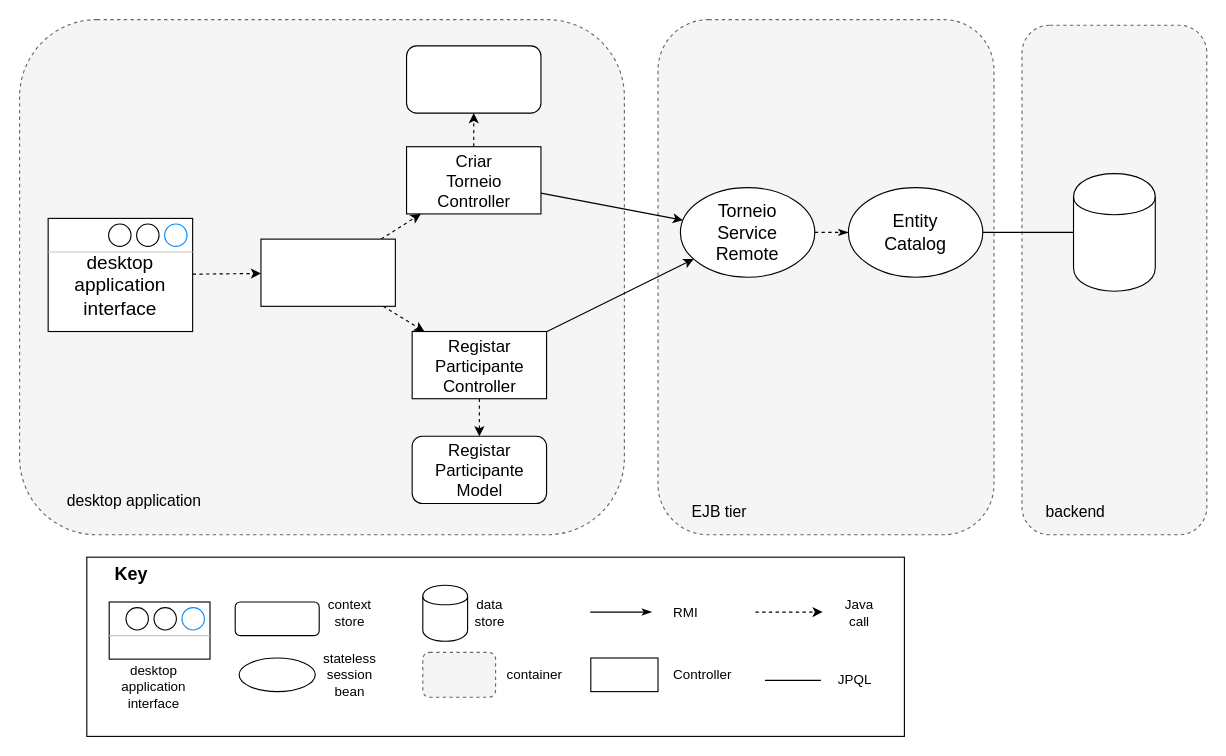
Some shapes in this 1226 by 756 pixel diagram are drawn without their labels. The shapes that lost their labels are listed below. From the top down, each one's box as (x1, y1, x2, y2) in pixels, then its label:
(405, 45, 541, 113): Criar Torneio Model
(1072, 172, 1155, 291): MySQL Database
(260, 238, 395, 306): Menu Principal Controller
